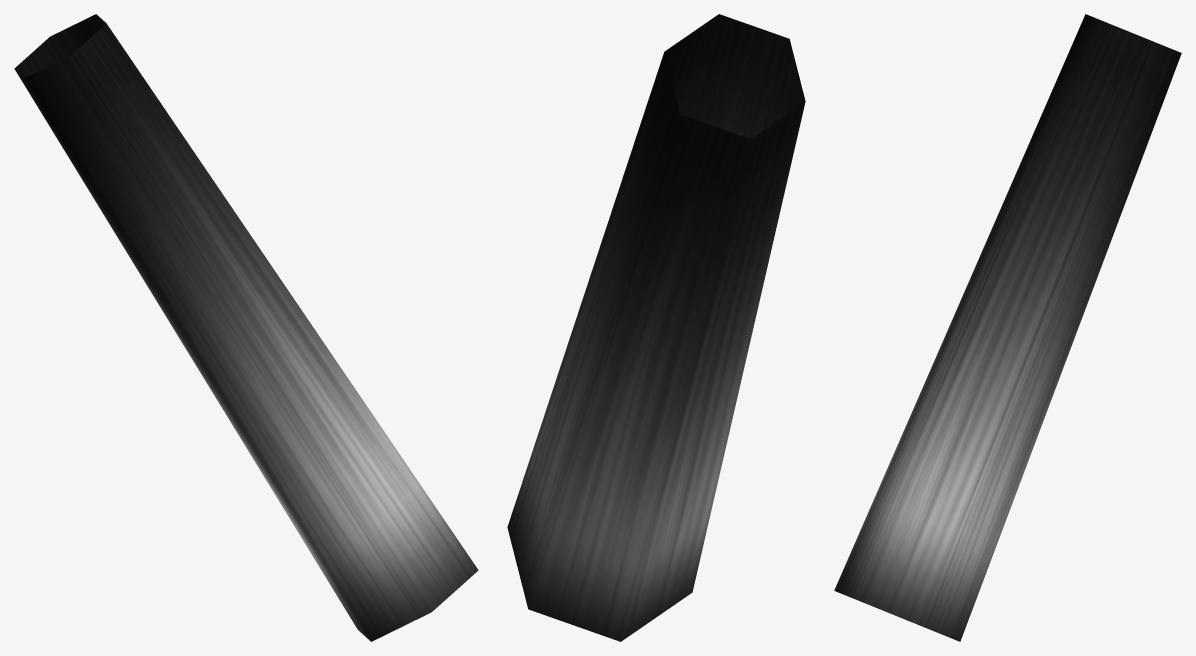
Rendered from mazeLightShaft01.fbx.
The picture shows the model from 3 angles, left to right: view 1: azimuth 30°, elevation 25°; view 2: azimuth 150°, elevation 25°; view 3: azimuth 270°, elevation 25°; orthographic projection. The views are drawn at different scales.
Parts seen in each view (by area): view 1: mazeLightShaft01; view 2: mazeLightShaft01; view 3: mazeLightShaft01.
Boxes of the visible parts, x1=… form: mazeLightShaft01: x1=14, y1=14, x2=478, y2=641; mazeLightShaft01: x1=507, y1=14, x2=805, y2=641; mazeLightShaft01: x1=834, y1=14, x2=1181, y2=641.
Bounding box in the file's own units: 25.9 × 43.16 × 25.24.
